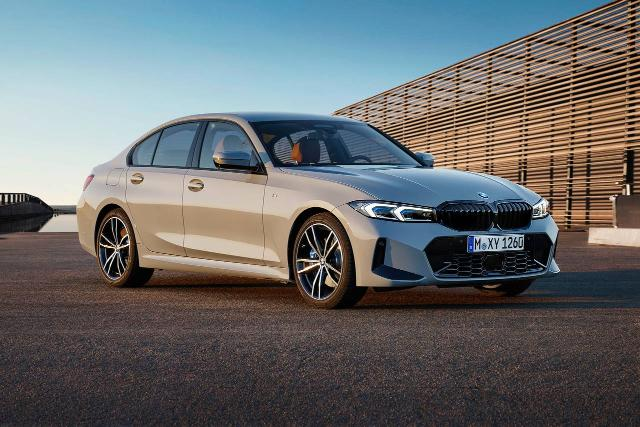bmw: (76, 112, 560, 310)
